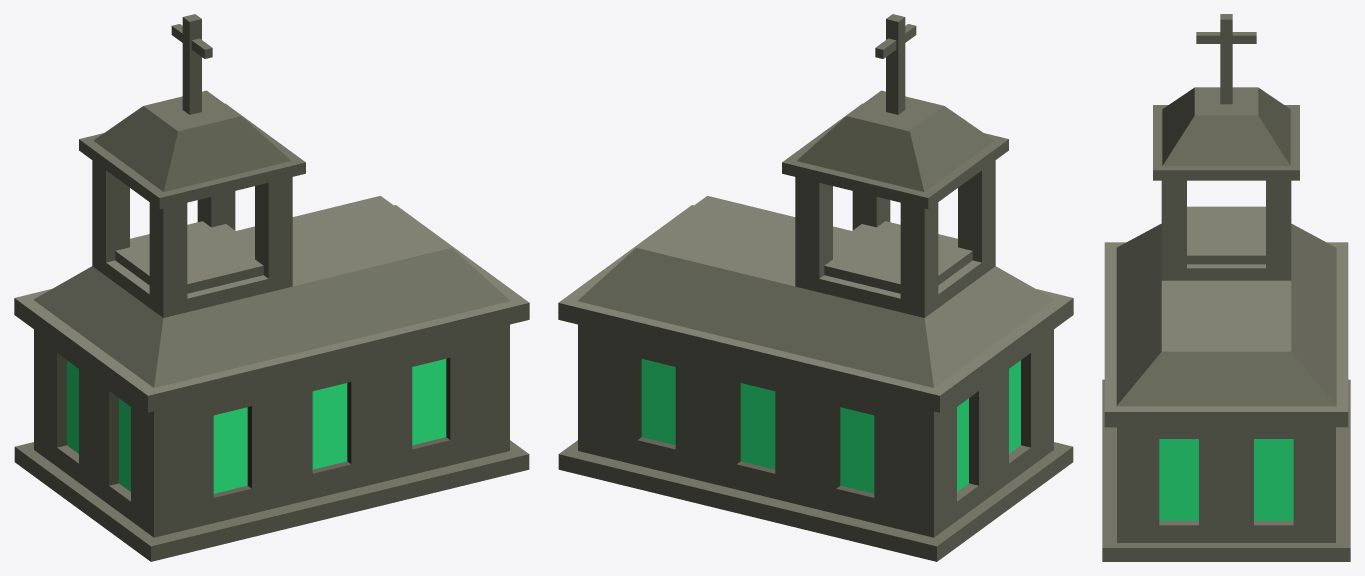
File: Model_Undead_3x2B.fbx
3 renders of one model, left to right at view 1: azimuth 30°, elevation 25°; view 2: azimuth 150°, elevation 25°; view 3: azimuth 270°, elevation 25°, orthographic. The views are drawn at different scales.
Visible parts, largest first — view 1: Model_Frost_3x2B; view 2: Model_Frost_3x2B; view 3: Model_Frost_3x2B.
Boxes of the visible parts, bbox=[...] form: Model_Frost_3x2B: bbox=[14, 14, 529, 561]; Model_Frost_3x2B: bbox=[558, 14, 1073, 561]; Model_Frost_3x2B: bbox=[1102, 14, 1350, 561].
Bounding box in the file's own units: 599 × 701 × 371.
Materials: 2 (1 with a texture image).
